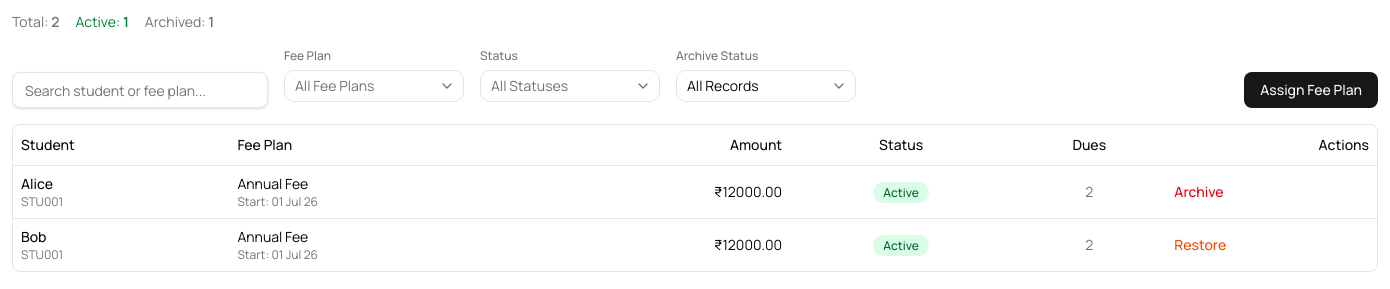
FeeAssignmentList UI › 7. archive filter switches between active/archived/all
The image size is (1390, 289).
Expected: the text "Alice" is shown, left=21, top=174, right=53, bottom=192
Expected: the text "Bob" is shown, left=21, top=226, right=46, bottom=246
Click the dropdown labelled "All Records ▼" at (766, 86), box left=676, top=70, right=856, bottom=102
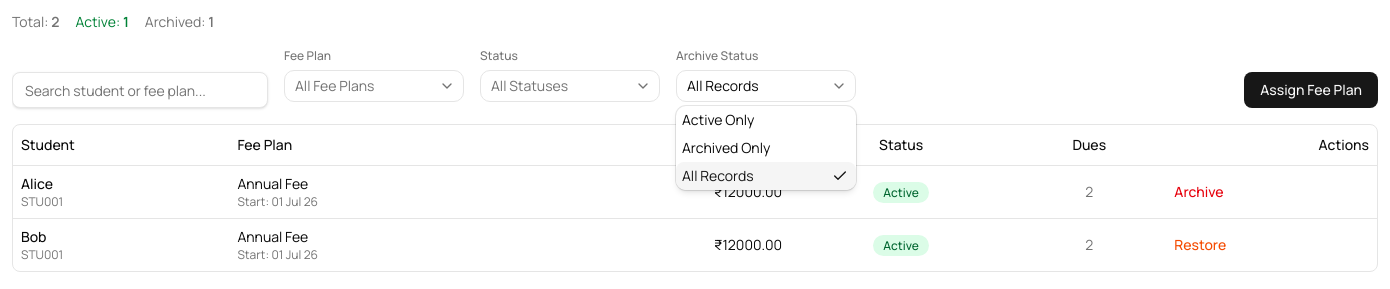
Click the option "Active Only" at (718, 120), box left=682, top=110, right=754, bottom=129
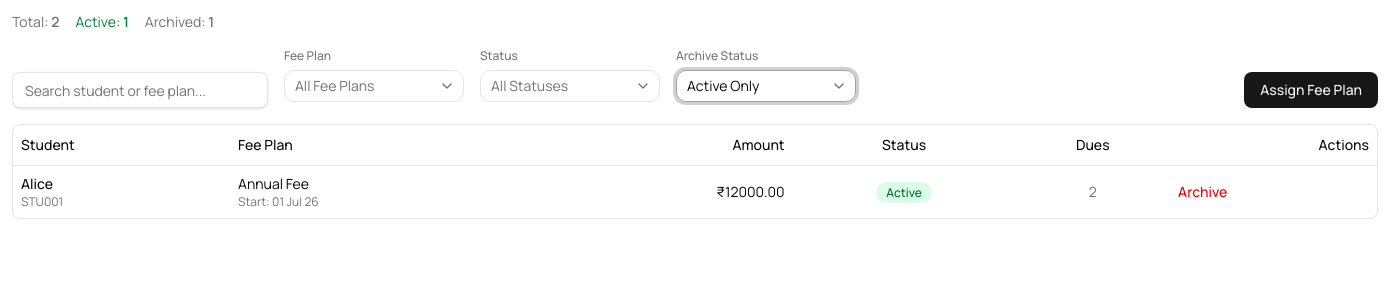
Expected: the text "Alice" is shown, left=21, top=174, right=53, bottom=192
Result: the text "Bob" is not shown
